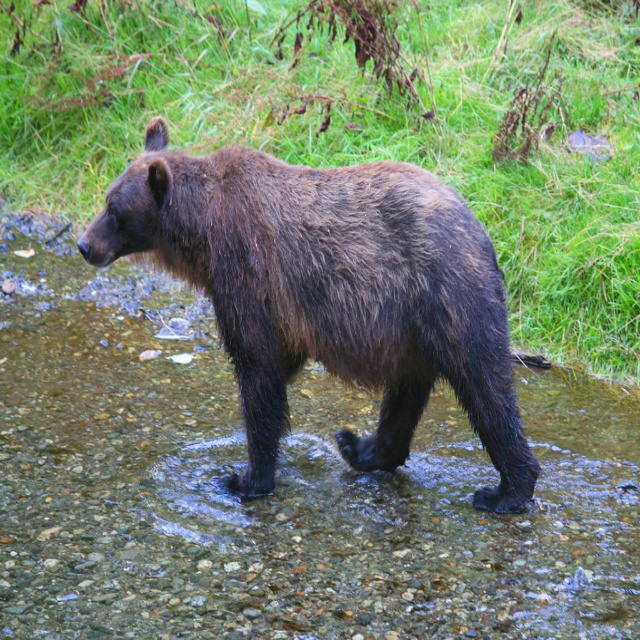Brown bear: (75, 115, 543, 516)
